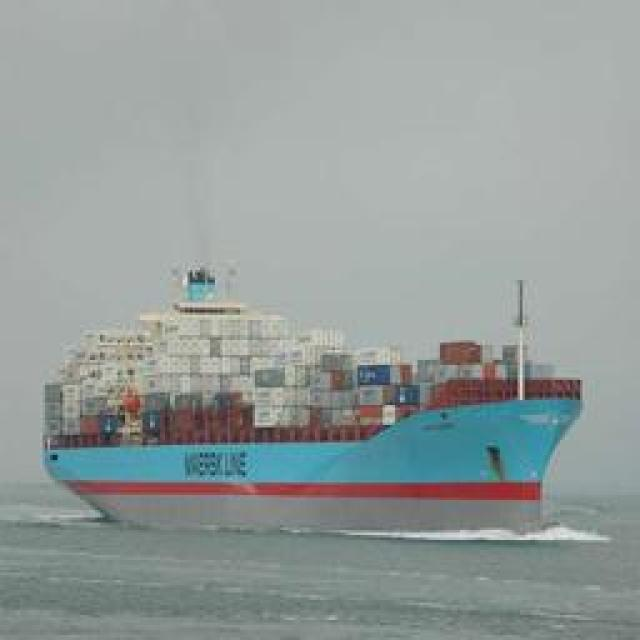ship2: (42, 268, 584, 541)
